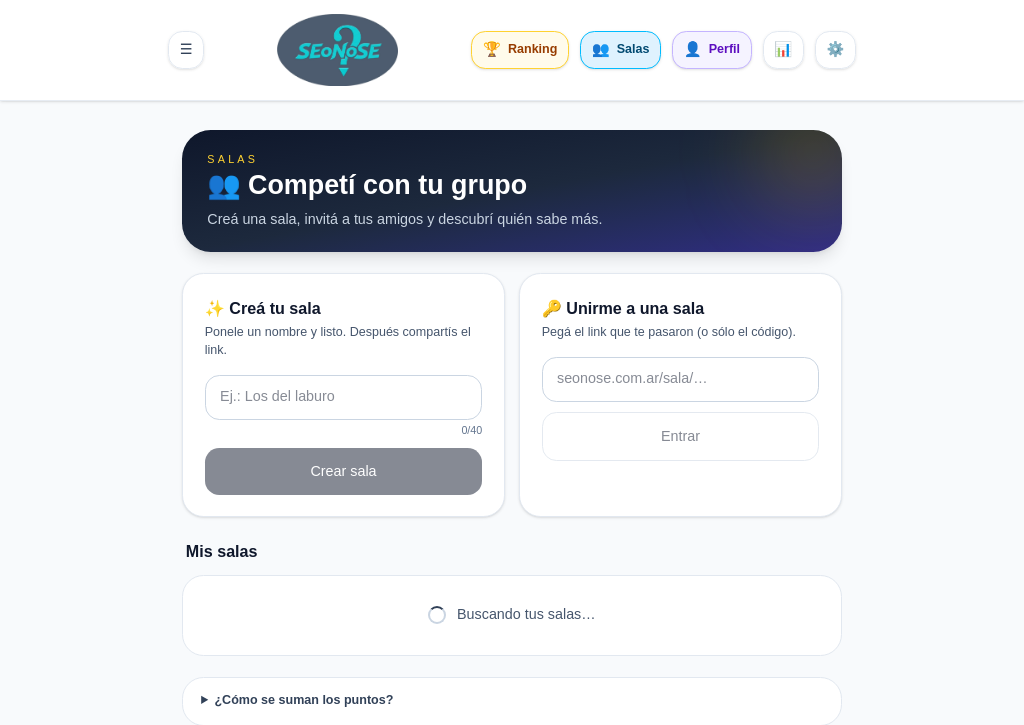
it: crear una sala › un doble clic crea una sola sala y lleva a la sala nueva
The width and height of the screenshot is (1024, 725).
Type "  Oficina " into the field named "Nombre de la sala" at (344, 397), box [205, 375, 482, 420]
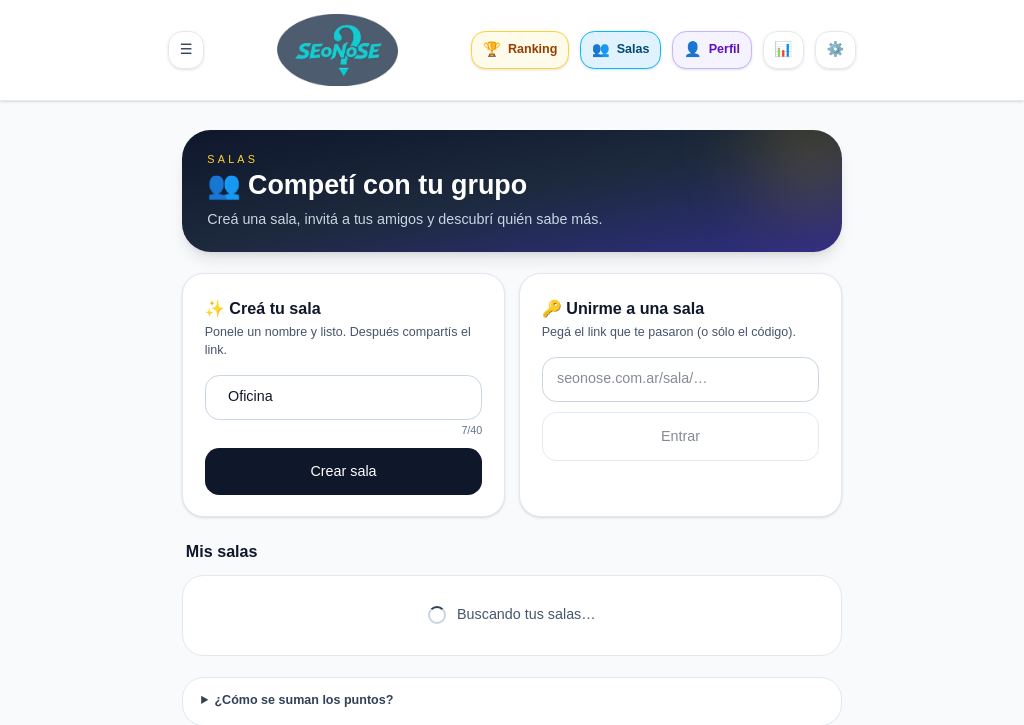
Click the button "Crear sala" at (344, 472), box [205, 448, 482, 495]
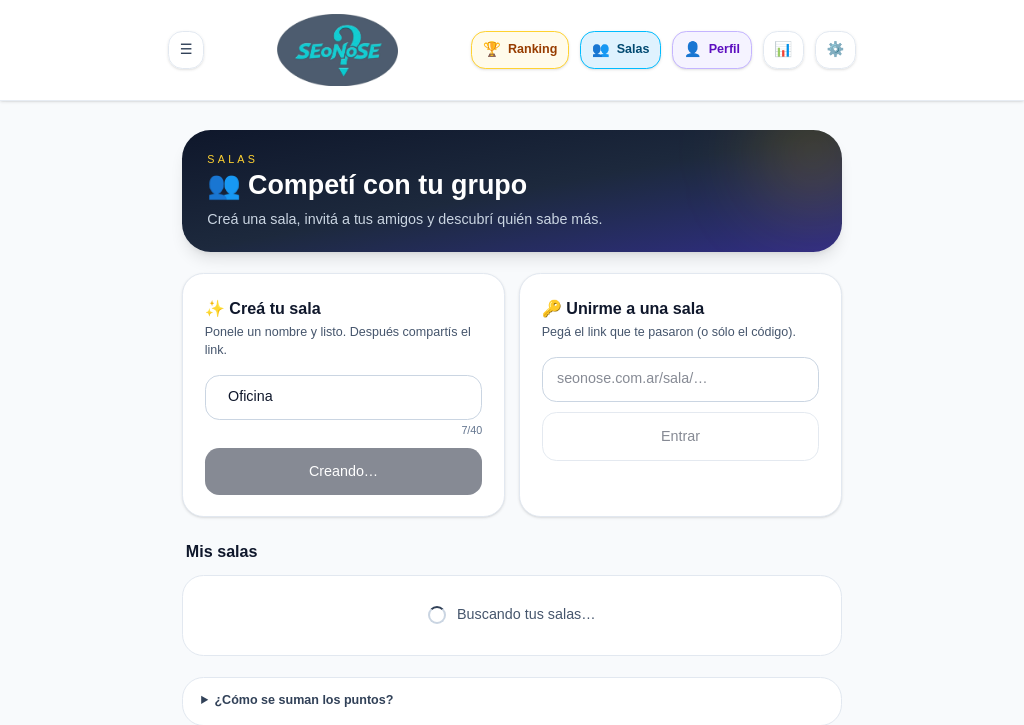
Click the button named "Crear sala" at (344, 472), box [205, 448, 482, 495]
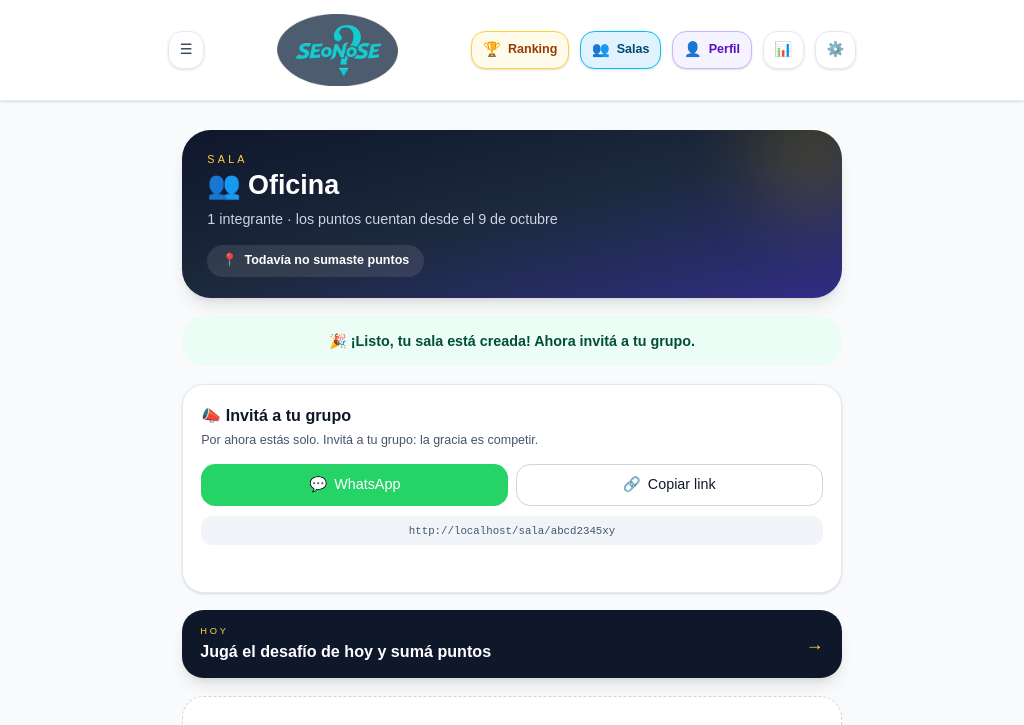
Now the text "🎉 ¡Listo, tu sala está creada! Ahora invitá a tu grupo." is shown, box [182, 316, 842, 366]
Now the text "Por ahora estás solo" is shown, box [201, 433, 538, 447]
